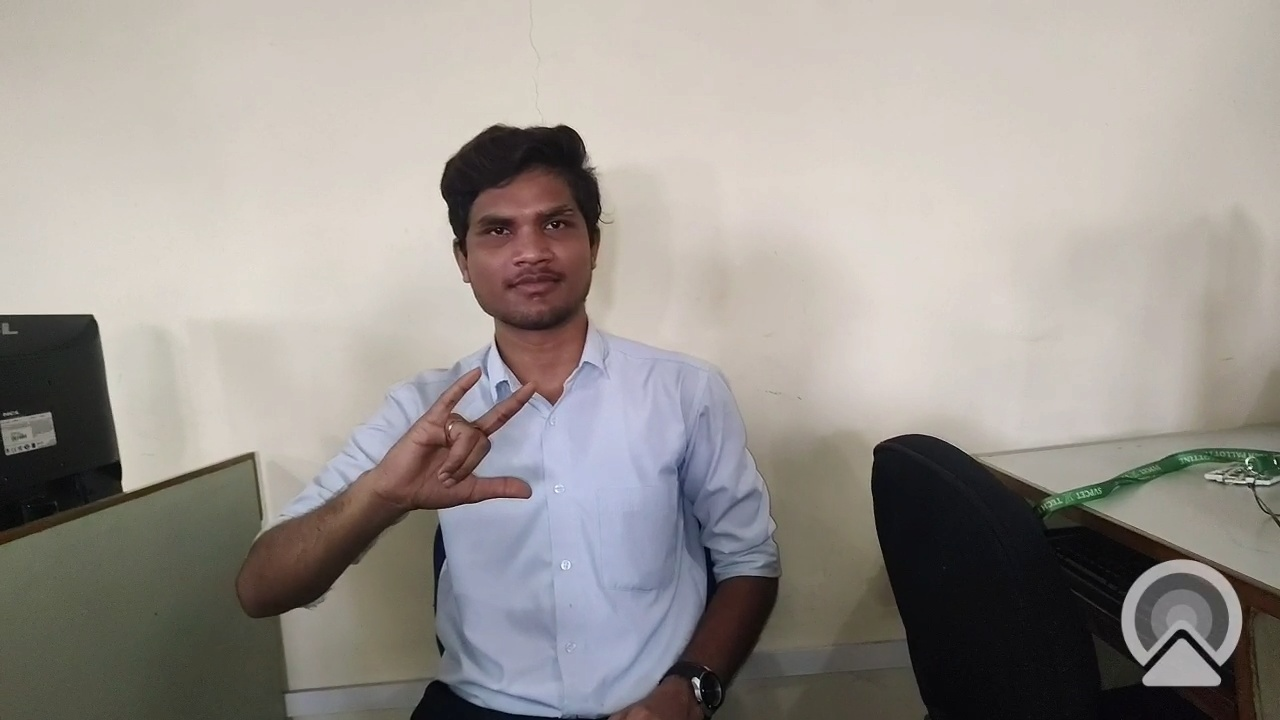I love you: (337, 349, 586, 533)
